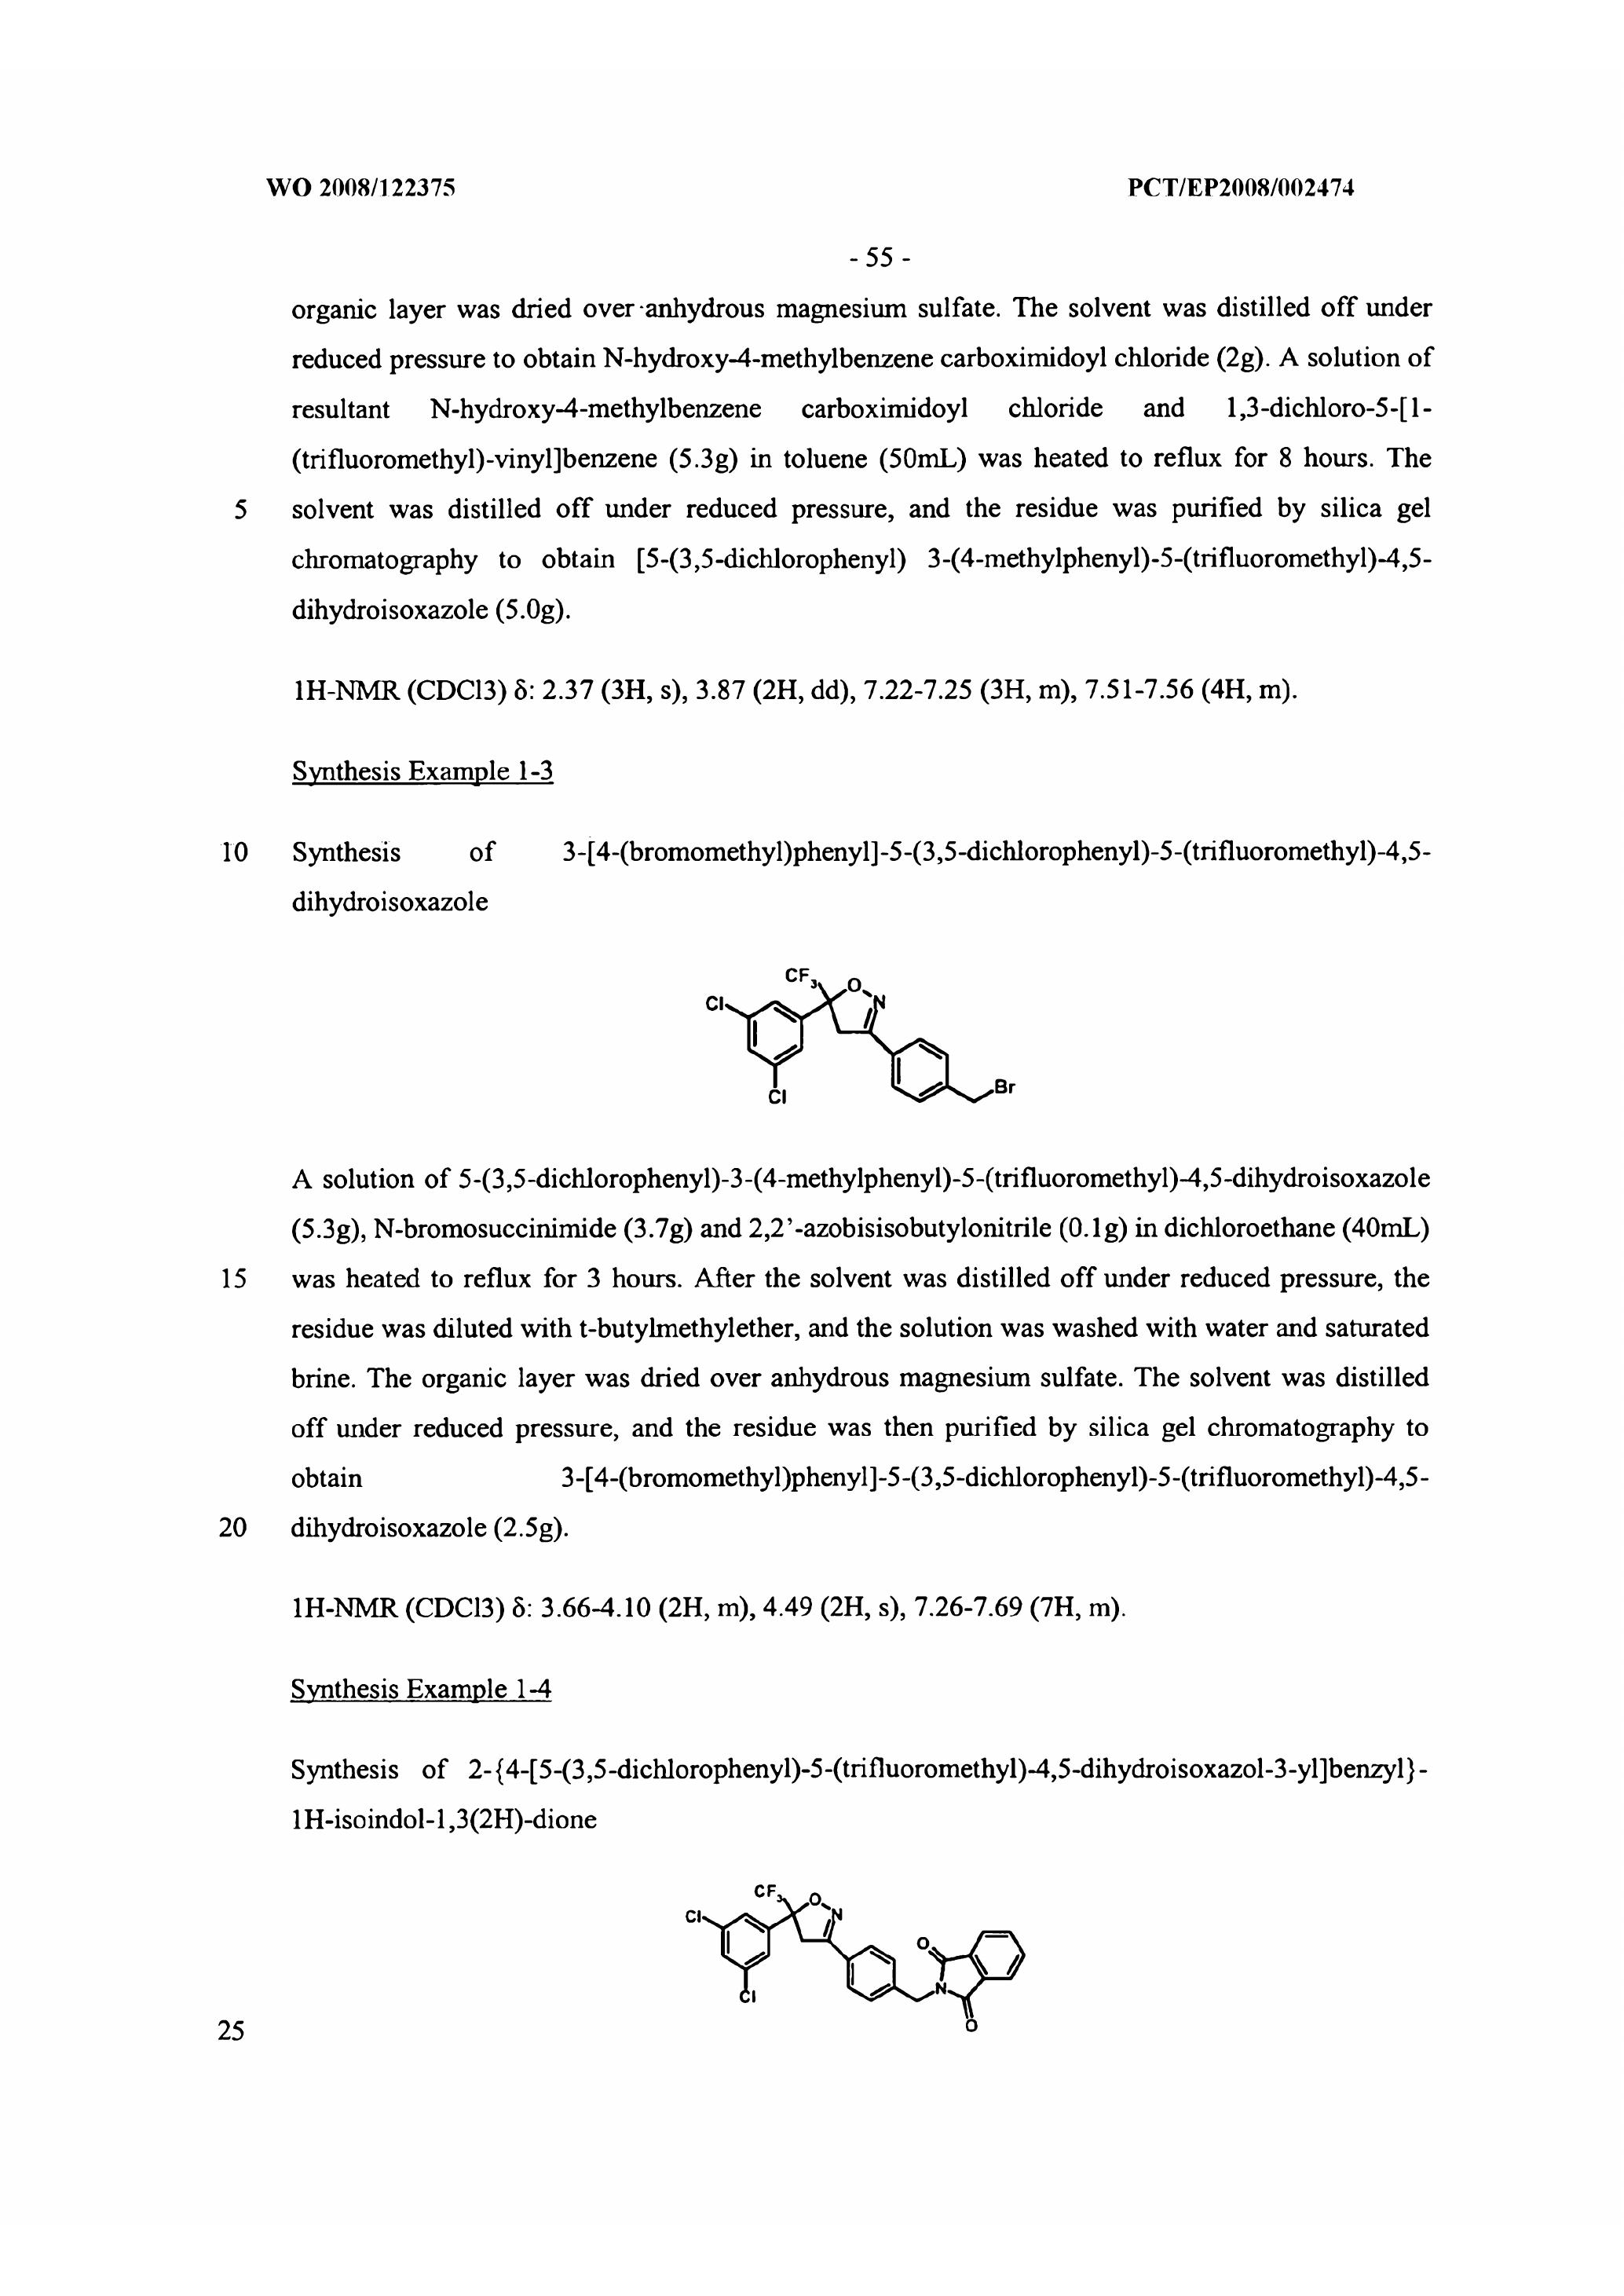relevant-structures: (684, 1860, 1200, 2176), (680, 870, 1079, 1153)
